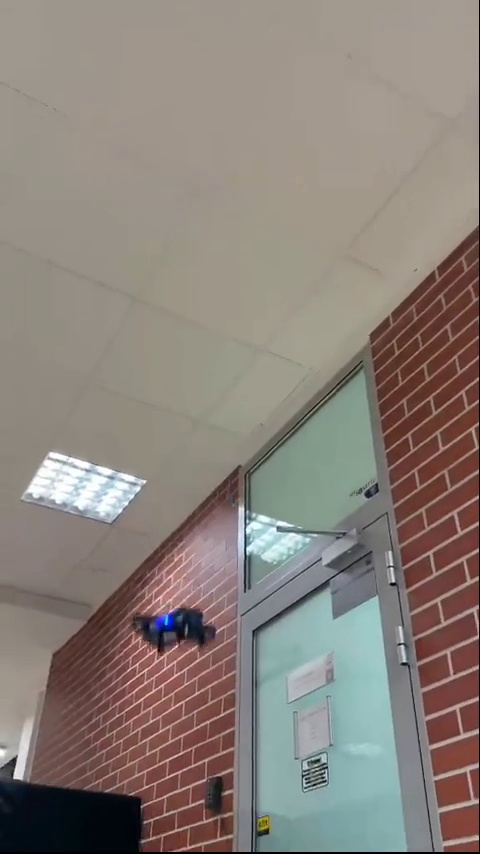drone: (134, 604, 213, 649)
